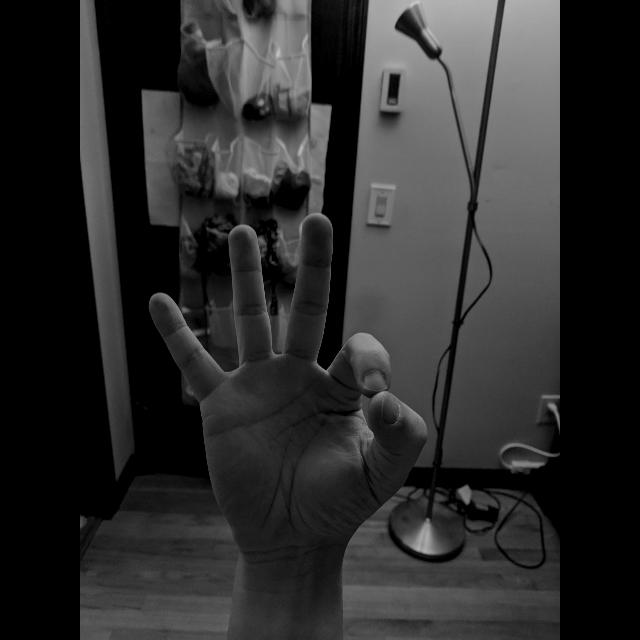F: (146, 208, 434, 566)
